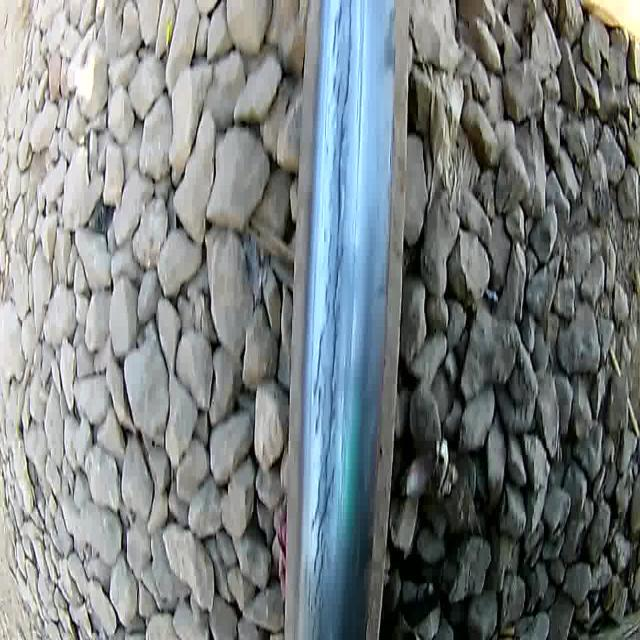Cracks: (304, 0, 354, 639)
Grooves: (351, 0, 366, 269)
